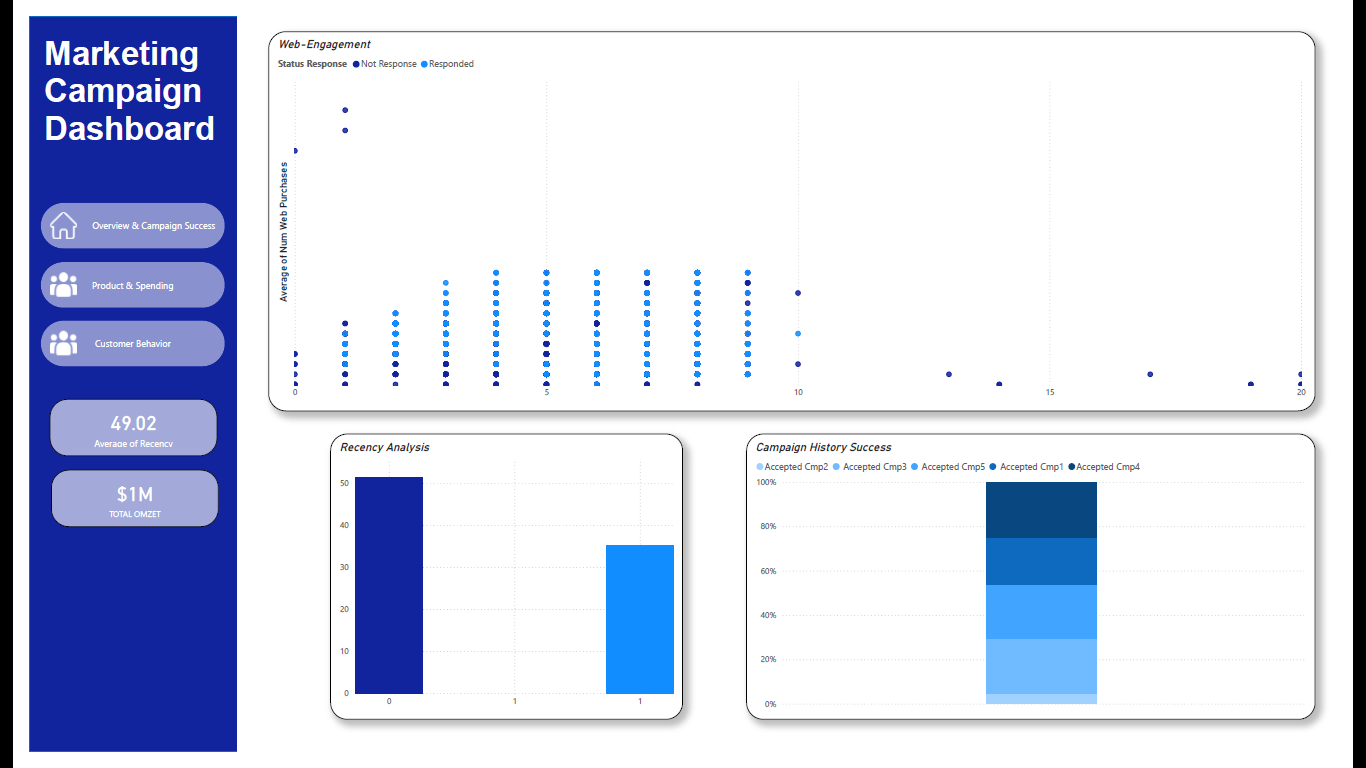

This screenshot's page, from the dashboard's own definition file:
{"tool":"powerbi","page":{"name":"Customer Behavior","canvas":[1920,1080],"ordinal":2},"visuals":[{"type":"shape","box":[0,0,304.6,1080],"z":0},{"type":"textbox","box":[17.3,21.6,278.6,205.2],"z":1000},{"type":"actionButton","box":[17.3,274.3,270,67],"z":3000},{"type":"actionButton","box":[17.3,360.7,270,67],"z":4000},{"type":"actionButton","box":[17.3,447.1,270,67],"z":5000},{"type":"card","fields":{"Values":["Avg(Data Cleaning.Recency)"]},"box":[30.2,561.6,246.2,84.2],"z":6000},{"type":"card","fields":{"Values":["Data Cleaning.TOTAL OMZET"]},"box":[32,666,246,84],"z":7000},{"type":"clusteredColumnChart","title":"Recency Analysis","fields":{"Category":["Data Cleaning.Response"],"Y":["Avg(Data Cleaning.Recency)"]},"box":[442.2,613.3,517.8,420],"z":8000},{"type":"hundredPercentStackedColumnChart","title":"Campaign History Success","fields":{"Y":["Sum(Data Cleaning.Accepted Cmp2)","Sum(Data Cleaning.Accepted Cmp3)","Sum(Data Cleaning.Accepted Cmp5)","Sum(Data Cleaning.Accepted Cmp1)","Sum(Data Cleaning.Accepted Cmp4)"]},"box":[1053.3,613.3,835.6,420],"z":9000},{"type":"scatterChart","title":"Web-Engagement","fields":{"X":["Avg(Data Cleaning.Num Web Visits Month)"],"Y":["Data Cleaning.Num Web Purchases"],"Category":["Data Cleaning.ID"],"Series":["Data Cleaning.Status Response"]},"box":[351.1,22.2,1537.8,557.8],"z":10000}]}

Visuals, with their boxes in screenshot pixels (x1, y1, x2, y2), scaled from the page's 1920x1080 canvas onto the 1366x768 screenshot:
shape: (0,0,217,767)
textbox: (12,15,211,161)
actionButton: (12,195,204,243)
actionButton: (12,256,204,304)
actionButton: (12,318,204,366)
card - Avg(Data Cleaning.Recency): (21,399,197,459)
card - Data Cleaning.TOTAL OMZET: (23,474,198,533)
"Recency Analysis" clusteredColumnChart: (315,436,683,735)
"Campaign History Success" hundredPercentStackedColumnChart: (749,436,1344,735)
"Web-Engagement" scatterChart: (250,16,1344,412)
